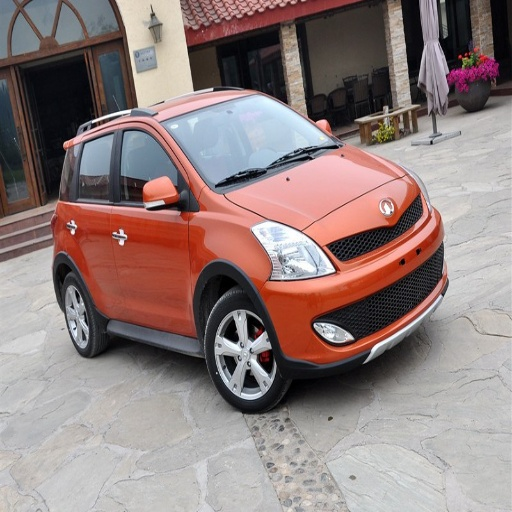front_bumper: (259, 216, 445, 374)
front_right_door: (112, 121, 190, 334)
front_right_light: (253, 220, 333, 279)
